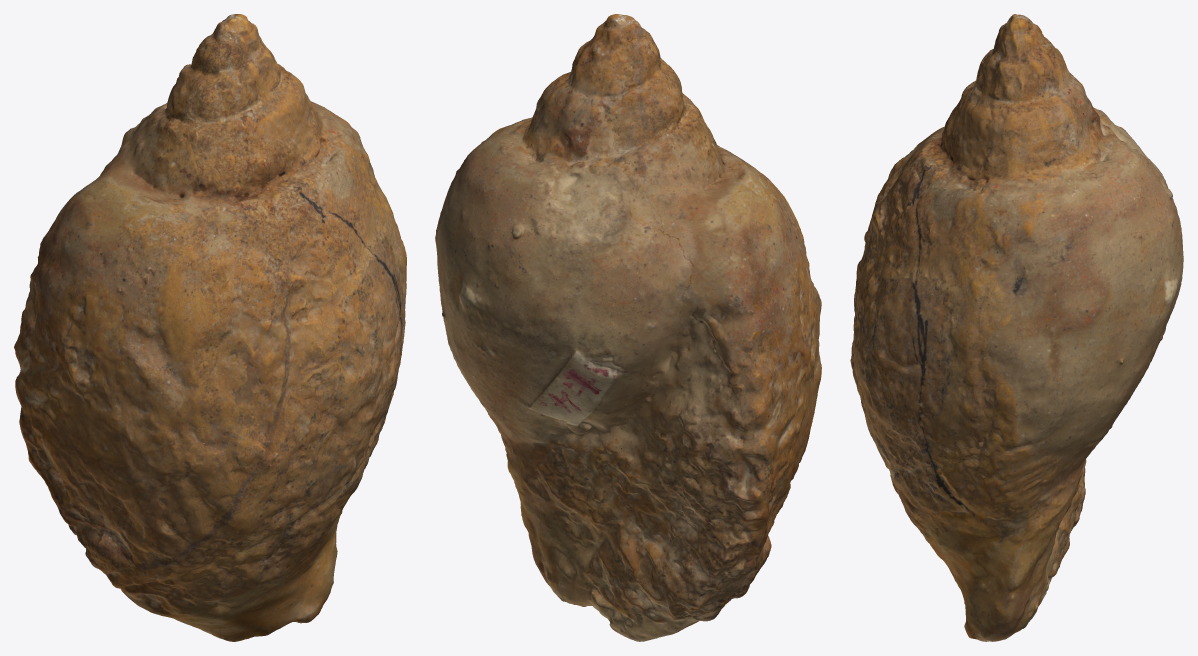
Rendered from EWS0016594.glb.
The picture shows the model from 3 angles, left to right: view 1: azimuth 30°, elevation 25°; view 2: azimuth 150°, elevation 25°; view 3: azimuth 270°, elevation 25°; orthographic projection. The views are drawn at different scales.
Parts seen in each view (by area): view 1: input; view 2: input; view 3: input.
Part boxes in pixels (bbox=[...]): input: bbox=[14, 14, 406, 641]; input: bbox=[435, 14, 821, 641]; input: bbox=[850, 14, 1183, 641].
Bounding box in the file's own units: 0.0315 × 0.0541 × 0.0266.
1 material, 1 textured.
